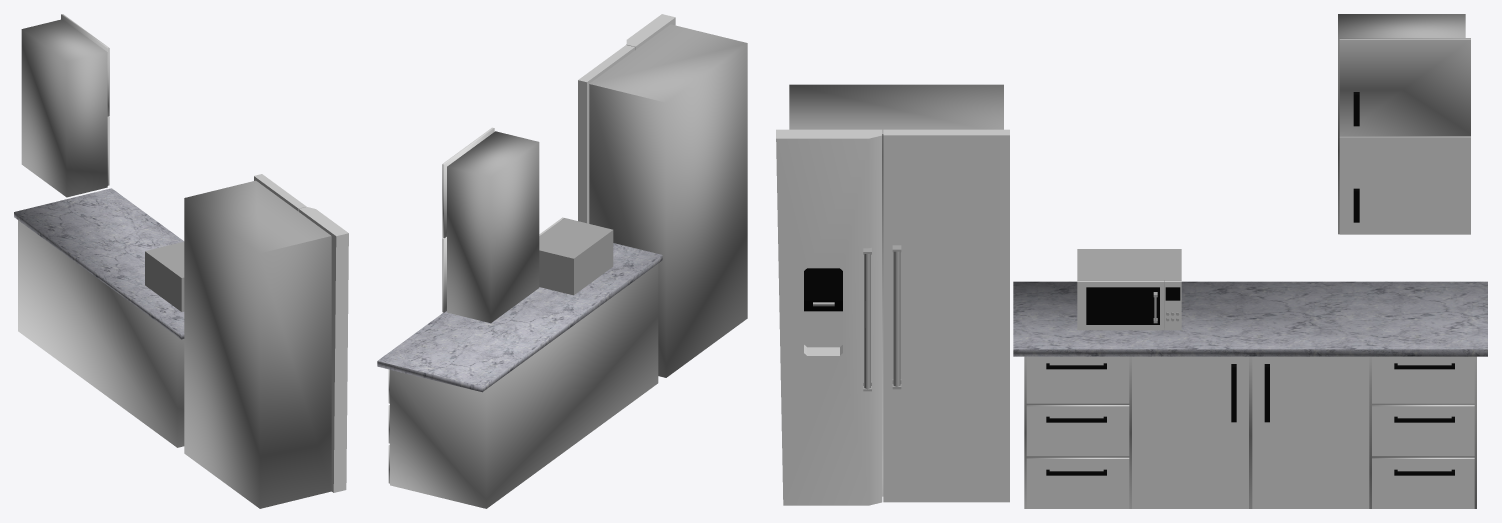
Rendered from kitchen_set.dae.
The picture shows the model from 3 angles, left to right: view 1: azimuth 30°, elevation 25°; view 2: azimuth 150°, elevation 25°; view 3: azimuth 270°, elevation 25°; orthographic projection. The views are drawn at different scales.
Parts seen in each view (by area): view 1: Fridge, Drawer.006, Wall Drawer.002, Microwave; view 2: Drawer.006, Fridge, Wall Drawer.002, Microwave; view 3: Drawer.006, Fridge, Wall Drawer.002, Microwave.
Part boxes in pixels (<box>): Fridge: <box>184,174,348,508</box>; Drawer.006: <box>14,188,184,447</box>; Wall Drawer.002: <box>21,14,109,197</box>; Microwave: <box>145,241,184,311</box>; Drawer.006: <box>377,243,662,508</box>; Fridge: <box>578,14,747,377</box>; Wall Drawer.002: <box>442,127,539,323</box>; Microwave: <box>539,217,613,295</box>; Drawer.006: <box>1013,281,1487,508</box>; Fridge: <box>776,84,1009,505</box>; Wall Drawer.002: <box>1338,14,1470,234</box>; Microwave: <box>1077,249,1181,330</box>.
Size of the model in its own units: 0.7909 by 3.51 by 2.38.
